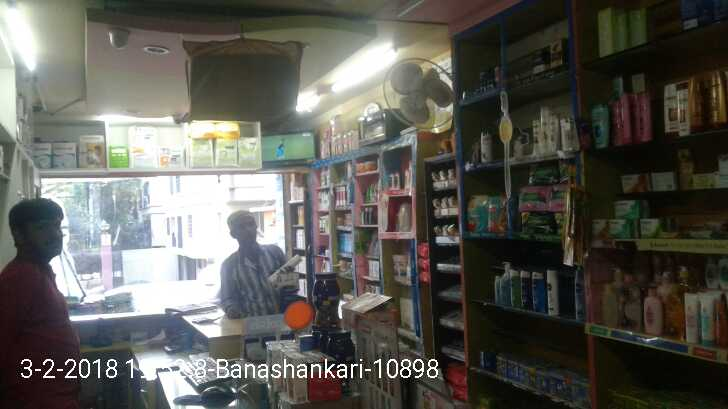beauty: (546, 114, 560, 152), (479, 125, 492, 165), (529, 119, 541, 156), (548, 39, 561, 72)
pharmacy: (519, 211, 556, 238), (485, 196, 509, 234), (516, 186, 548, 213), (467, 194, 487, 232), (527, 163, 557, 186)
